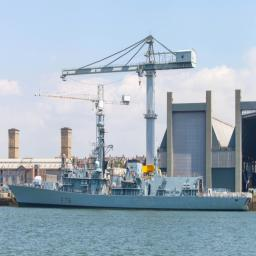Fragata: (6, 119, 252, 212)
